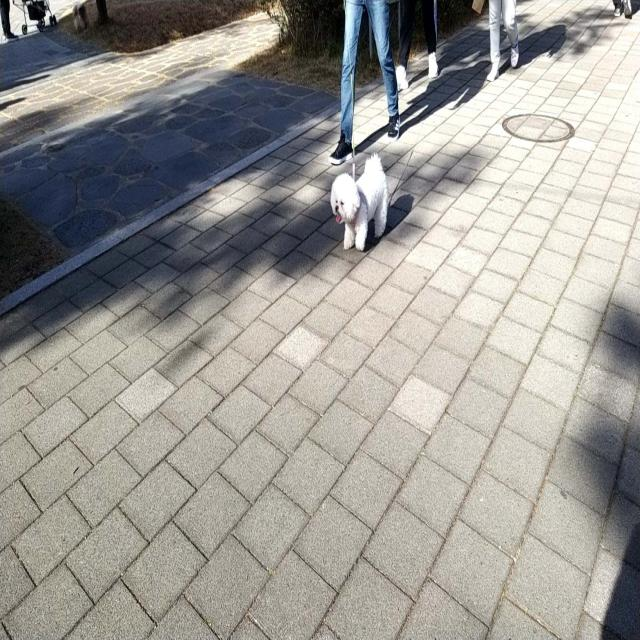Leashed_Dog: (329, 0, 388, 252)
